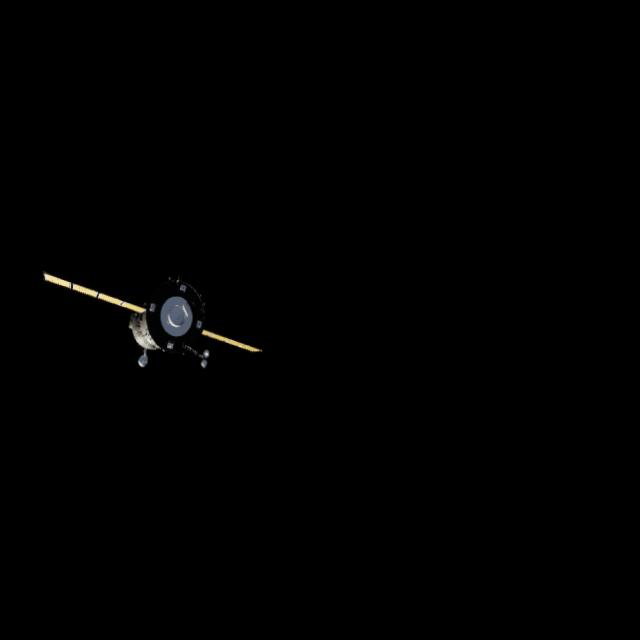Satellites revolving around earth: (38, 266, 265, 374)
